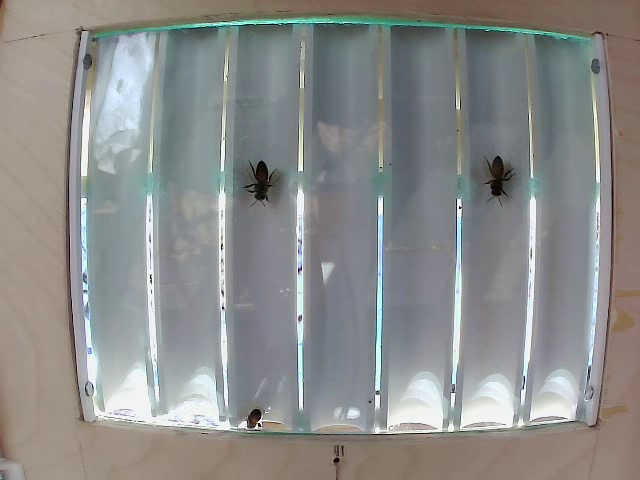bee: (249, 145, 283, 206), (476, 150, 505, 202)
